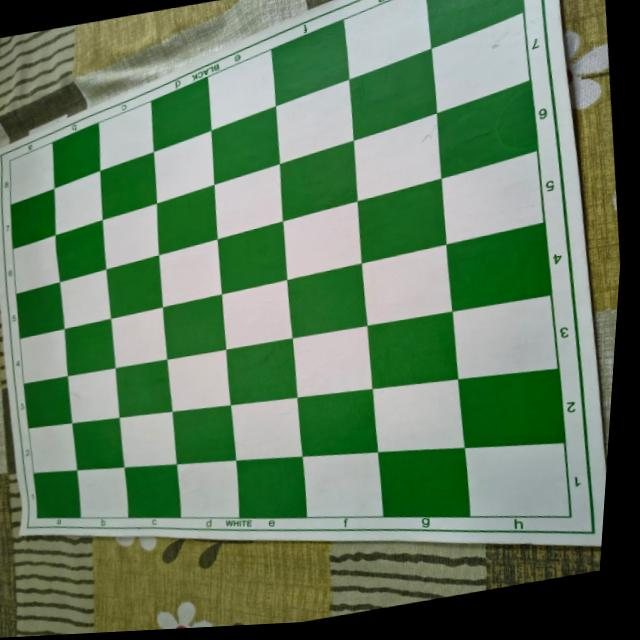square: (459, 430, 576, 534), (452, 360, 569, 460), (427, 8, 538, 112), (431, 75, 543, 176), (435, 148, 552, 244), (441, 219, 558, 311), (451, 294, 565, 385), (374, 438, 475, 533), (370, 370, 472, 462), (343, 43, 440, 137), (351, 108, 448, 198), (353, 174, 449, 259), (362, 240, 455, 325), (366, 311, 462, 393), (264, 18, 353, 106), (291, 379, 382, 465), (270, 76, 356, 162), (279, 196, 367, 280), (337, 0, 434, 76), (299, 446, 386, 529), (274, 137, 359, 219), (290, 324, 378, 403), (284, 259, 370, 336), (209, 157, 290, 238), (229, 451, 310, 530), (224, 389, 305, 467), (199, 48, 278, 127), (203, 104, 282, 182), (212, 218, 290, 294), (219, 276, 298, 349), (221, 339, 300, 411), (143, 75, 215, 147), (166, 400, 239, 471), (149, 127, 220, 200), (172, 457, 243, 529), (163, 348, 237, 417), (151, 180, 223, 250), (154, 236, 226, 306), (96, 199, 165, 268), (159, 291, 229, 358), (94, 148, 161, 218), (118, 459, 184, 526), (116, 406, 183, 472), (101, 252, 166, 317), (72, 461, 134, 526), (46, 121, 107, 186), (98, 99, 154, 169), (110, 358, 173, 420), (48, 168, 108, 232), (51, 217, 111, 280), (417, 0, 530, 33), (54, 266, 114, 328), (68, 413, 128, 474), (65, 367, 124, 426), (111, 306, 168, 367), (24, 418, 82, 477), (4, 187, 60, 246), (27, 466, 84, 523), (9, 279, 65, 337), (59, 318, 116, 374), (18, 375, 74, 430), (10, 141, 55, 203), (13, 234, 60, 292), (19, 328, 68, 382)
